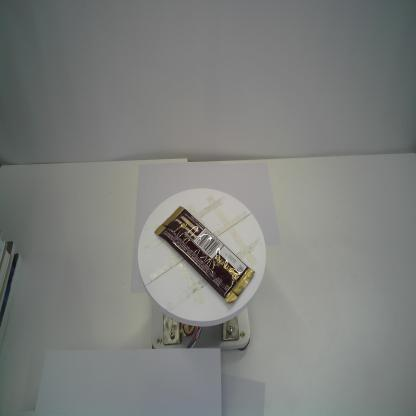Chocolate: (153, 205, 256, 304)
